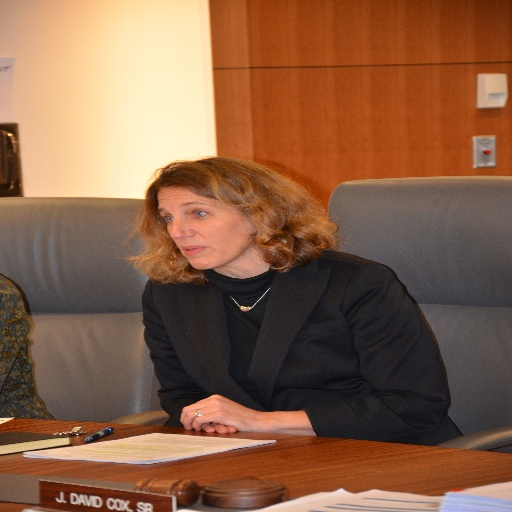hand: (147, 389, 316, 440), (199, 422, 238, 434)
